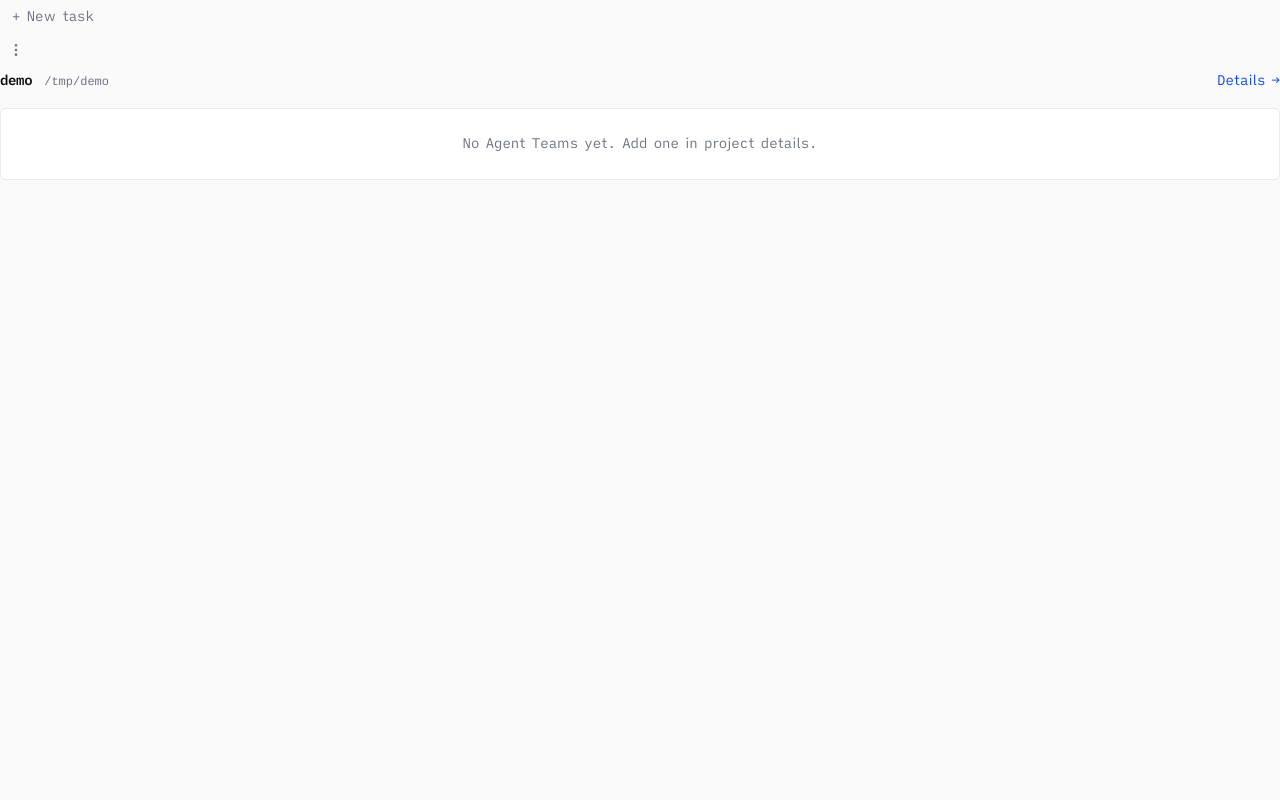
Test case: Dashboard "Project created" follow-up modal › "Later" closes the follow-up modal without entering the add-agent flow
The width and height of the screenshot is (1280, 800).
Click the button named "More actions" at (16, 50), box left=0, top=34, right=32, bottom=66
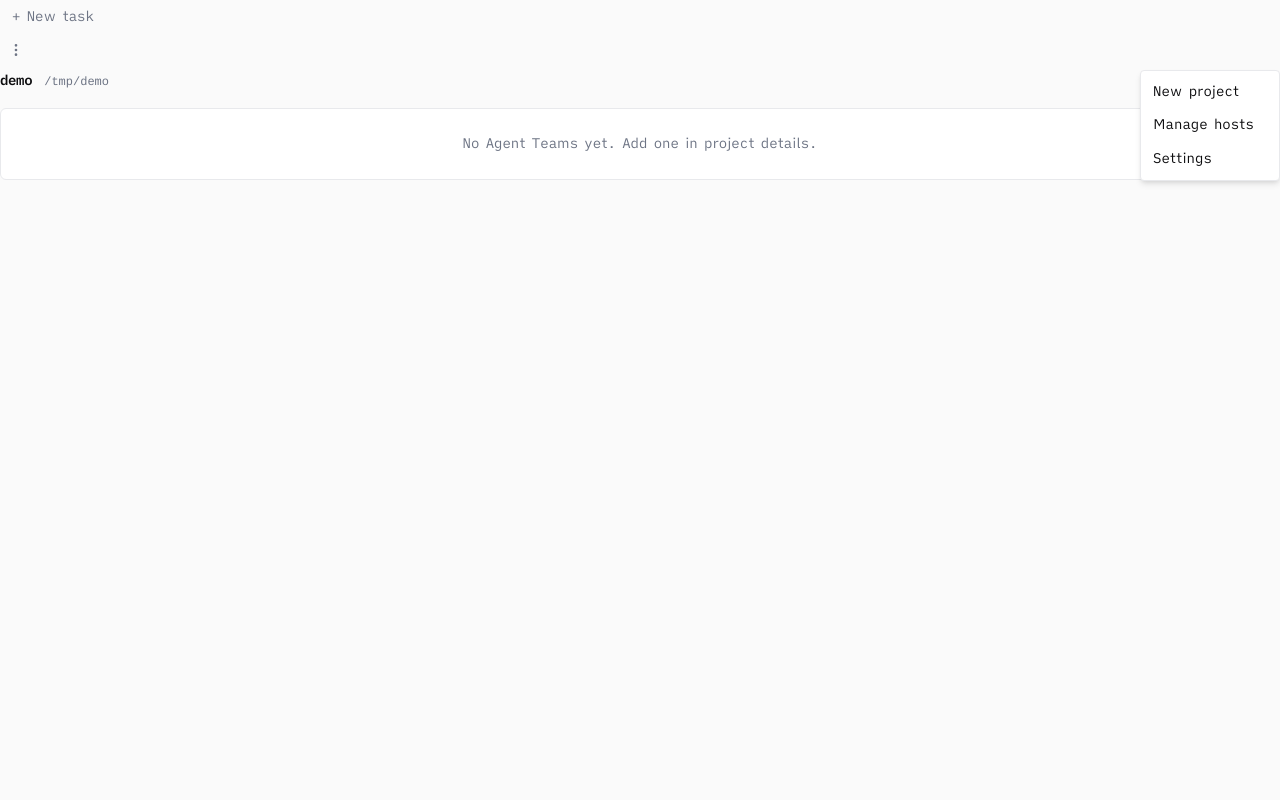
Click the menu item "New project" at (1210, 92), box left=1141, top=75, right=1279, bottom=108
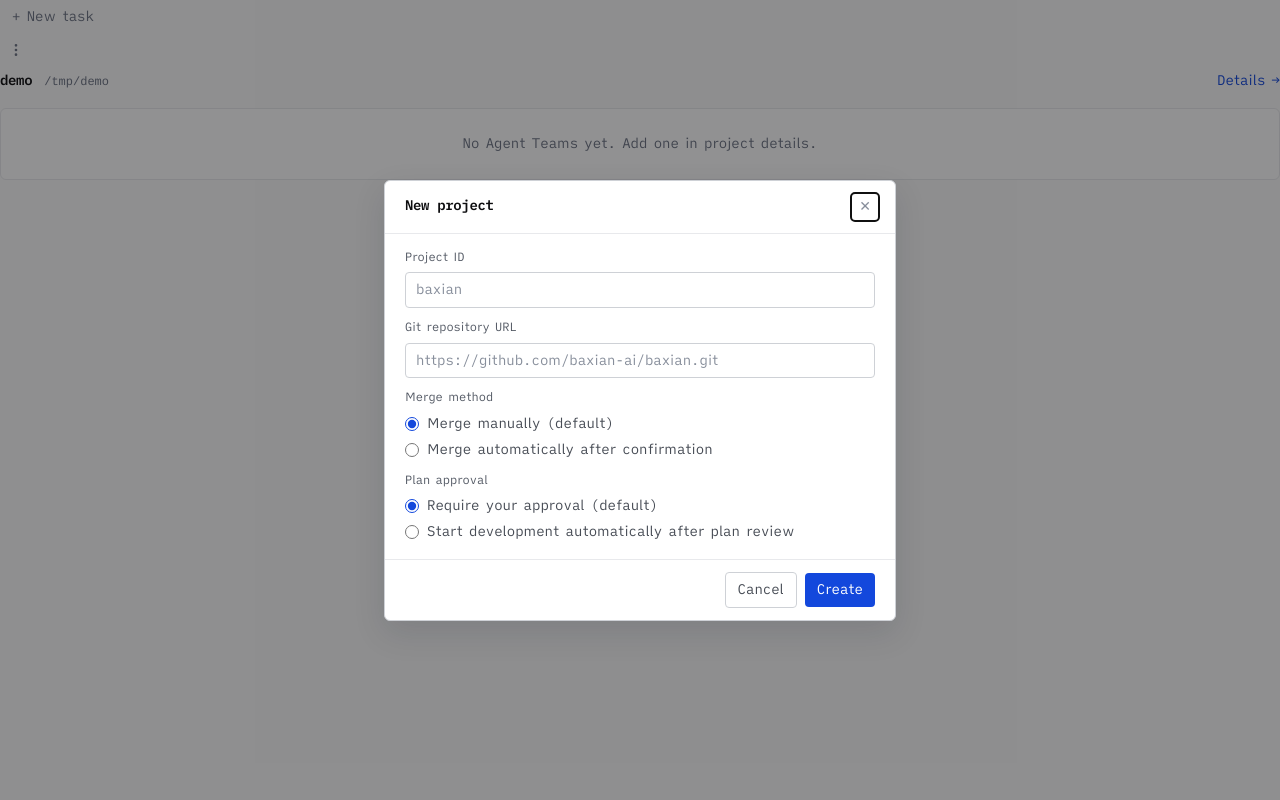
Type "newproj" into the field labelled "Project ID" at (640, 290), box left=405, top=272, right=875, bottom=308
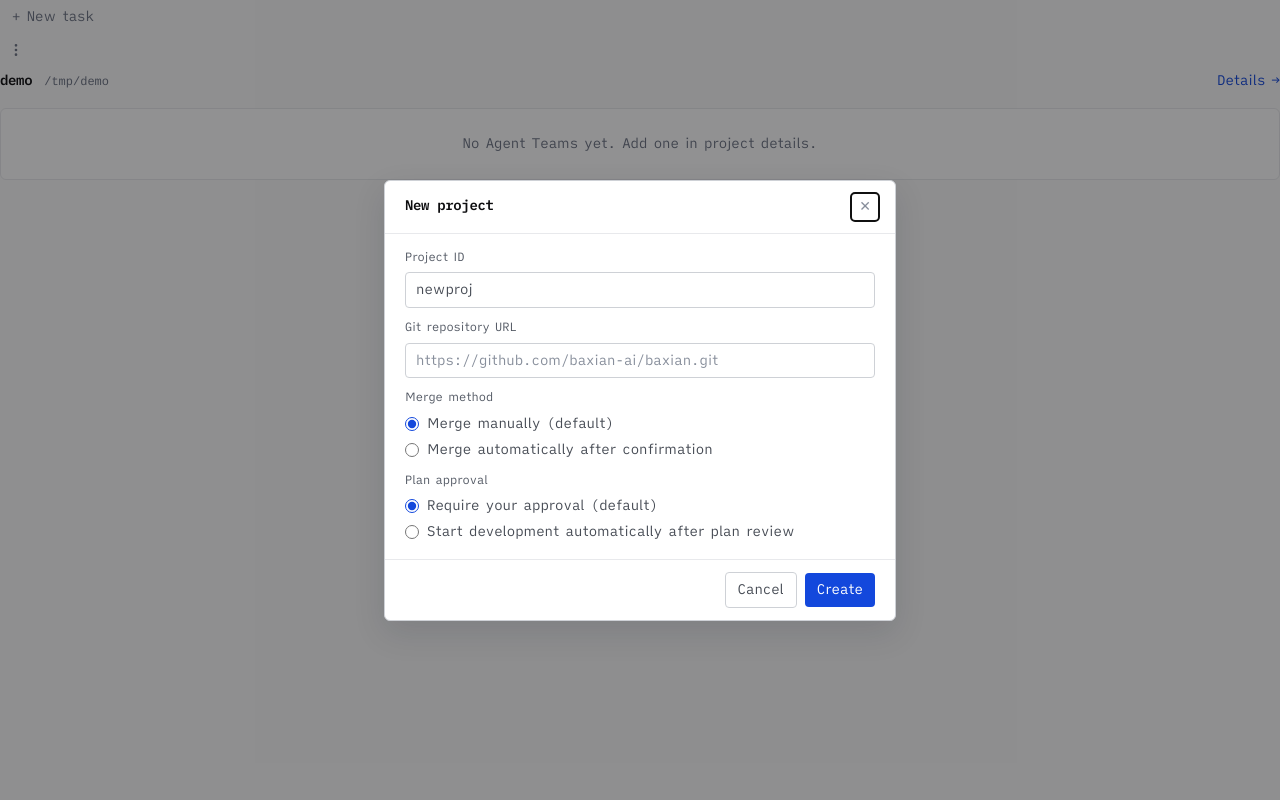
Type "https://github.com/o/r.git" into the field labelled "Git repository URL" at (640, 361), box left=405, top=343, right=875, bottom=378
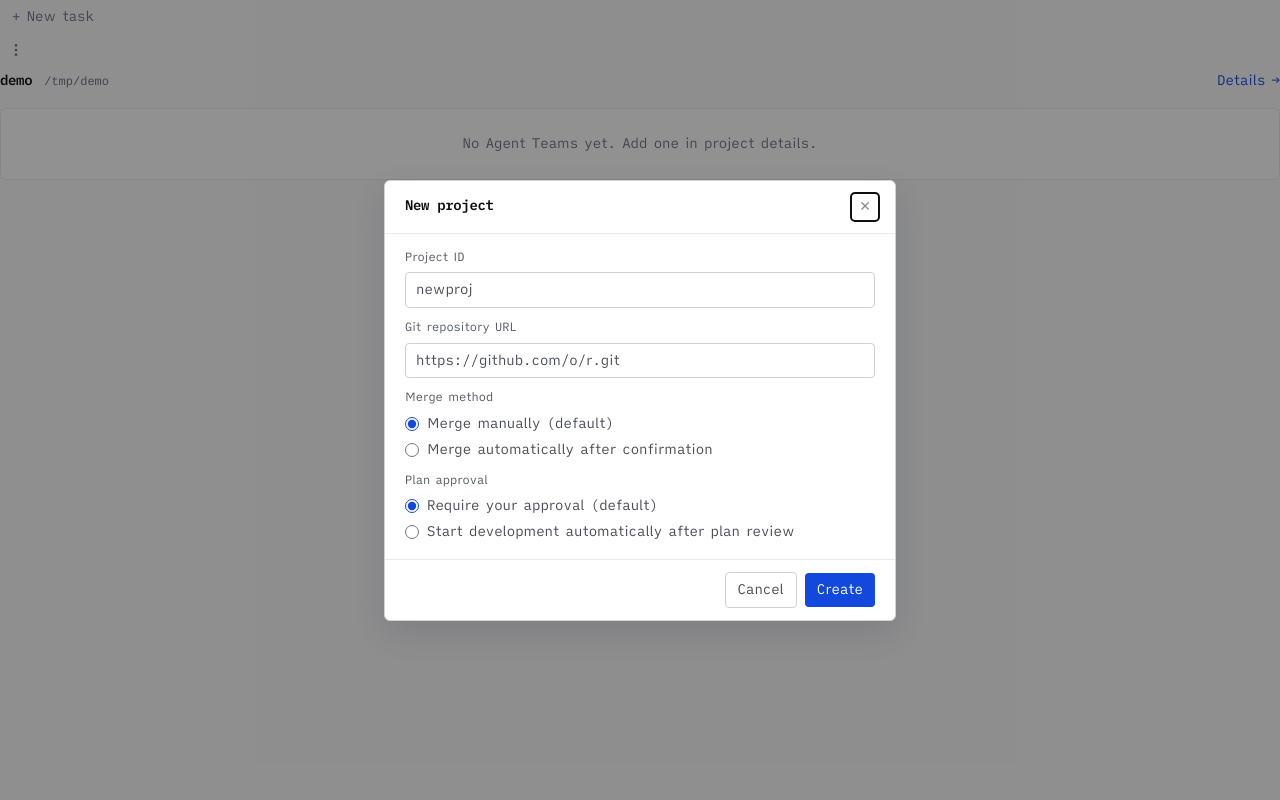
Click the button "Create" at (840, 590), box left=805, top=573, right=875, bottom=606
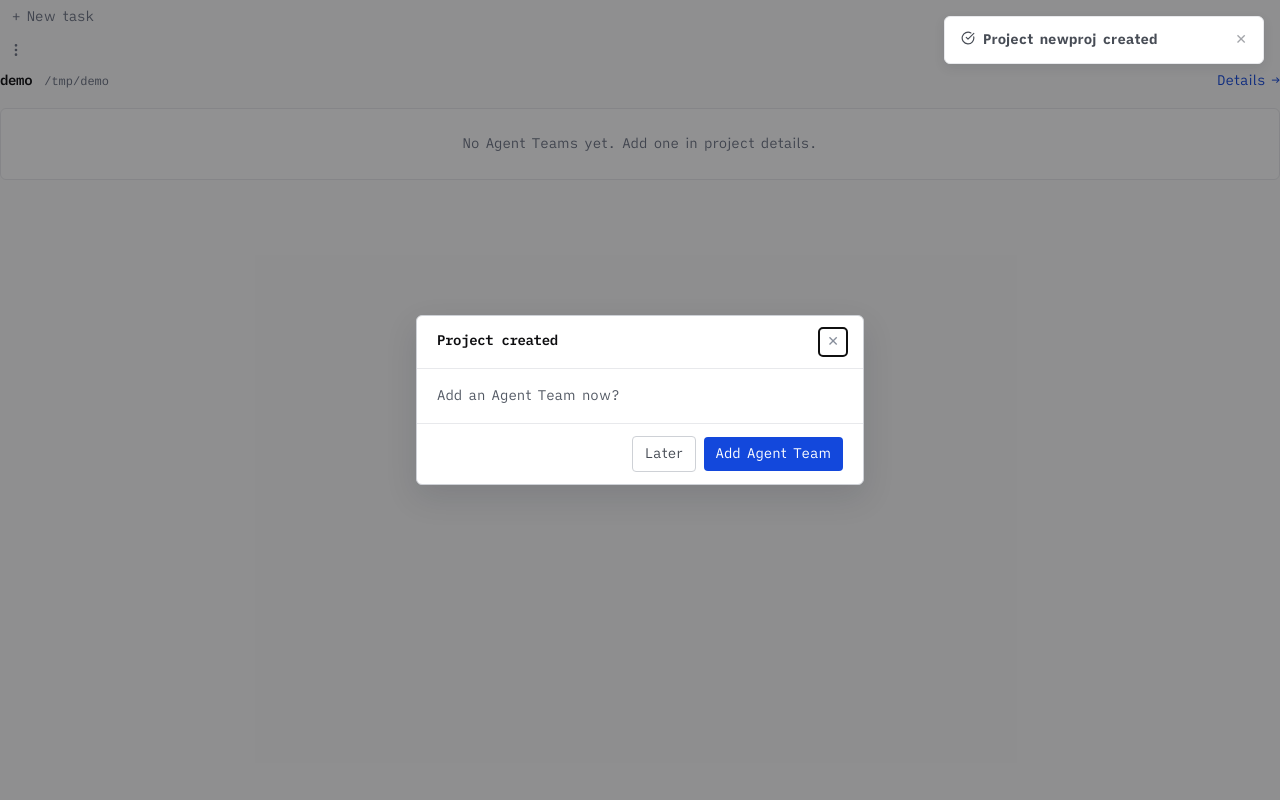
Click the button "Later" at (664, 454), box left=632, top=436, right=696, bottom=472
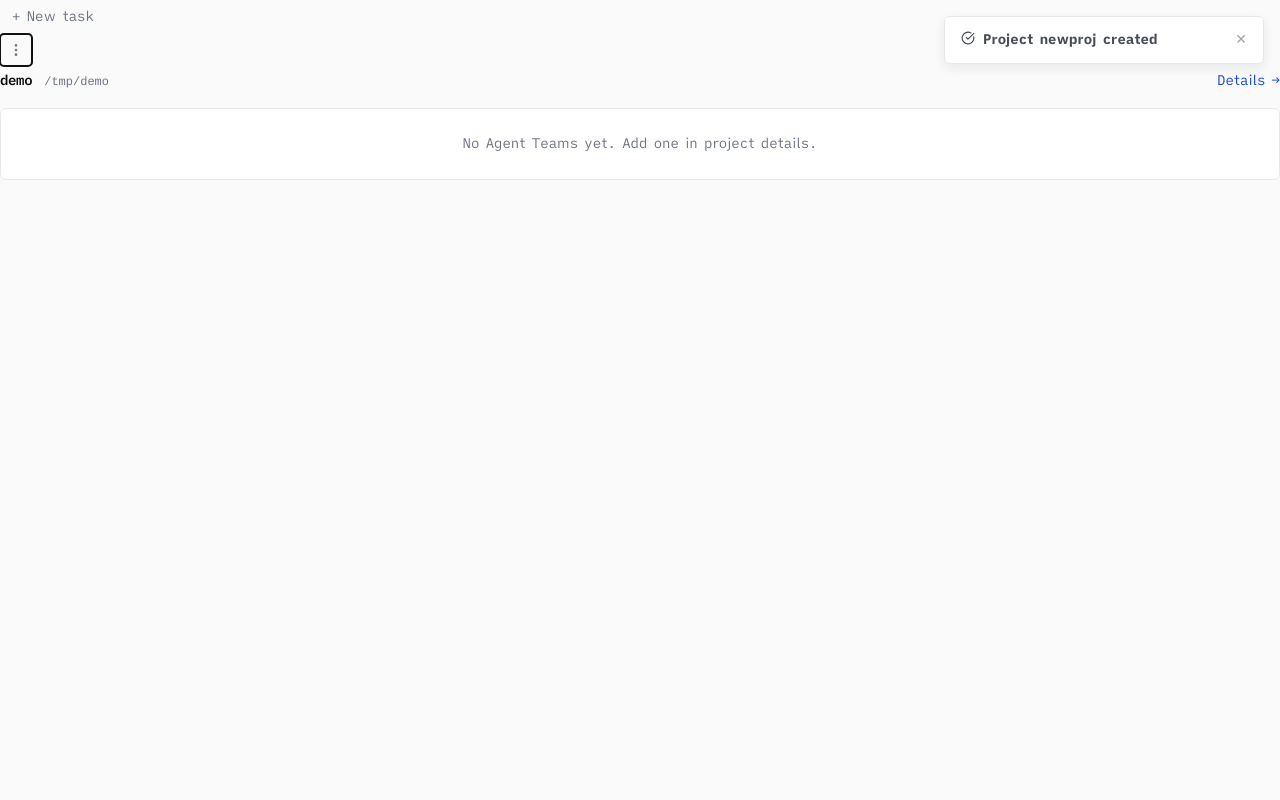
Check: the heading "Project created" is gone
Check: the button "Add Agent Team" is gone
